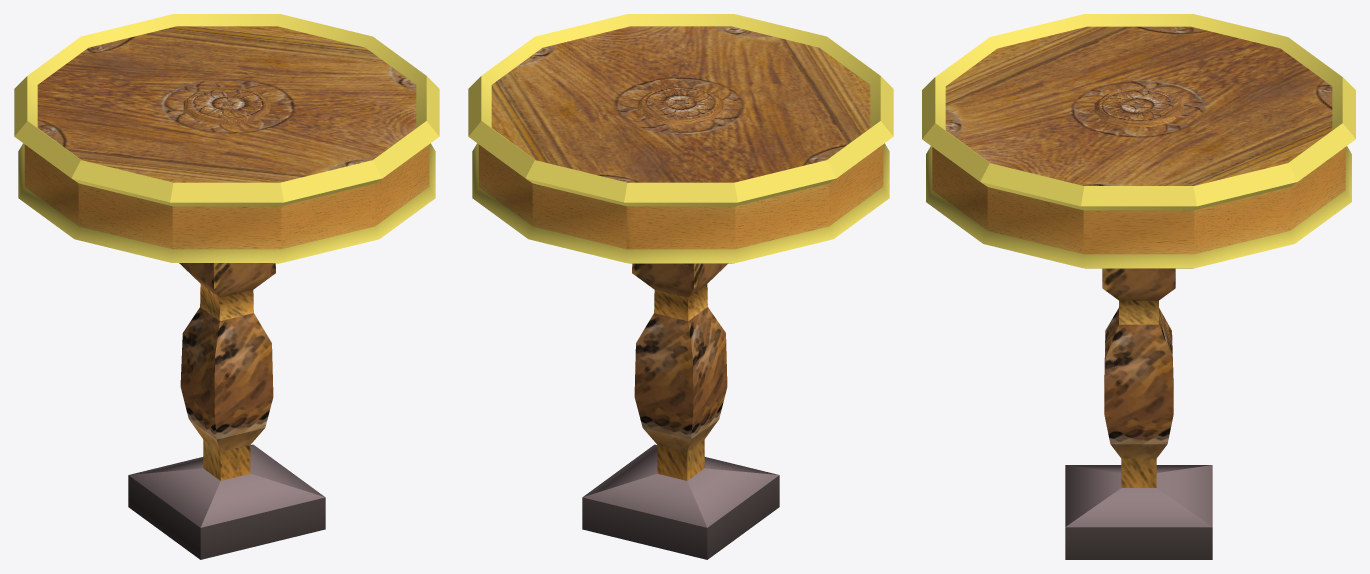
Rendered from Table_Pedestal.fbx.
The picture shows the model from 3 angles, left to right: view 1: azimuth 30°, elevation 25°; view 2: azimuth 150°, elevation 25°; view 3: azimuth 270°, elevation 25°; orthographic projection. The views are drawn at different scales.
Parts seen in each view (by area): view 1: Round_Smoking_Table; view 2: Round_Smoking_Table; view 3: Round_Smoking_Table.
Part boxes in pixels (x1,y1,x2,y2): Round_Smoking_Table: [14, 14, 439, 559]; Round_Smoking_Table: [468, 14, 893, 559]; Round_Smoking_Table: [922, 14, 1355, 559].
Bounding box in the file's own units: 110 × 120 × 110.
